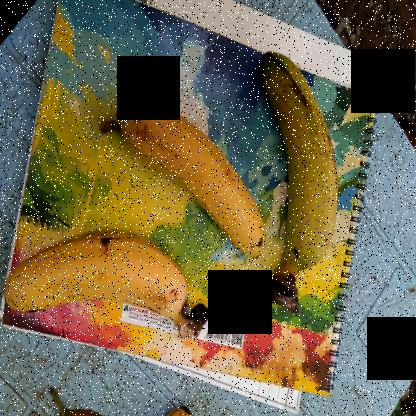freshripe: (112, 91, 262, 265), (0, 218, 186, 336)
ripe: (260, 43, 348, 286)
